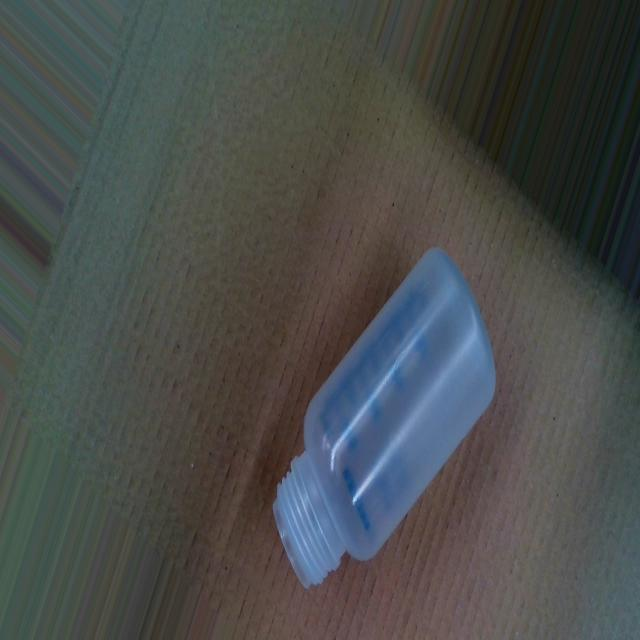bottle: (273, 237, 498, 591)
